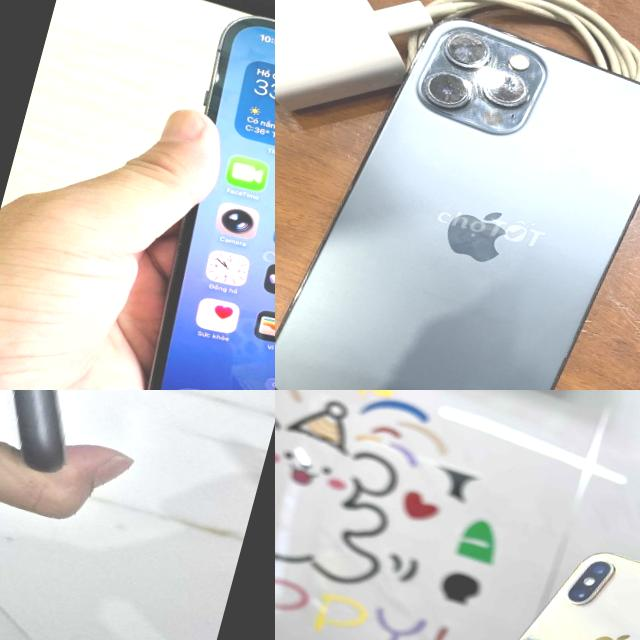gen_11: (0, 390, 136, 498)
gen_12_13: (275, 0, 640, 390), (106, 0, 275, 390)
gen_x_xs: (370, 509, 640, 640)
scratch: (409, 2, 555, 150)
